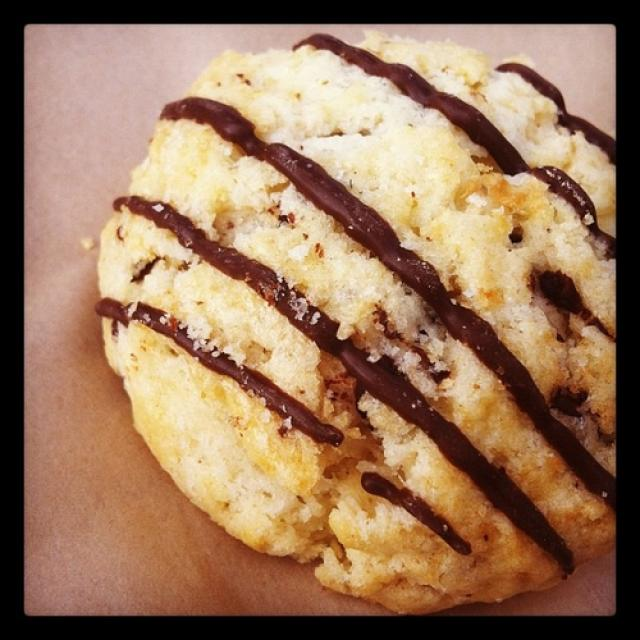面包点心: (64, 40, 613, 599)
